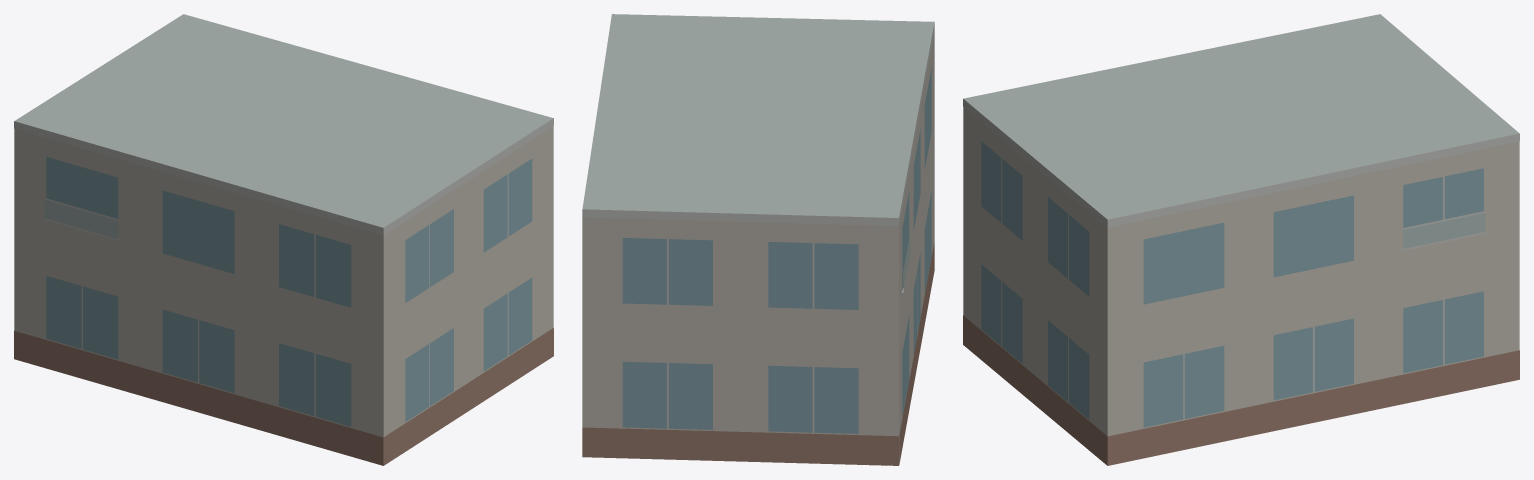
Rendered from survey-upis-32740610.glb.
The picture shows the model from 3 angles, left to right: view 1: azimuth 30°, elevation 25°; view 2: azimuth 150°, elevation 25°; view 3: azimuth 270°, elevation 25°; orthographic projection. The views are drawn at different scales.
Parts seen in each view (by area): view 1: survey-upis-32740610.tmp; view 2: survey-upis-32740610.tmp; view 3: survey-upis-32740610.tmp.
Boxes of the visible parts, box(x1,y1,x2,y2) form: survey-upis-32740610.tmp: box(14, 14, 553, 465); survey-upis-32740610.tmp: box(582, 14, 934, 465); survey-upis-32740610.tmp: box(963, 14, 1519, 465).
Size of the model in its own units: 13.63 by 7.6 by 15.59.
